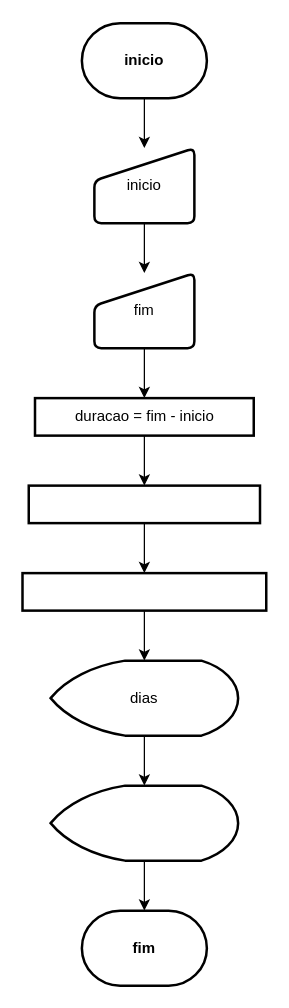
Some shapes in this 289 by 1008 pixel diagram are drawn without their labels. The shapes that lost their labels are listed below. From the top down, each one's centre as x and y in pixels, then its label:
At (x=144, y=504): "dias = duracao em dias".
At (x=144, y=591): "horas = duracao em horas".
At (x=144, y=822): "horas".
